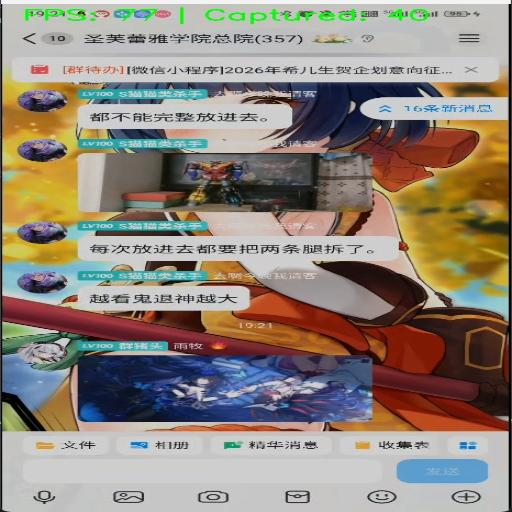back: (18, 26, 78, 52)
butten: (361, 98, 503, 119), (210, 436, 331, 454), (336, 434, 424, 455), (23, 435, 106, 453), (118, 438, 200, 454), (446, 30, 486, 52)
close: (449, 62, 488, 78)
input: (22, 460, 384, 482)
